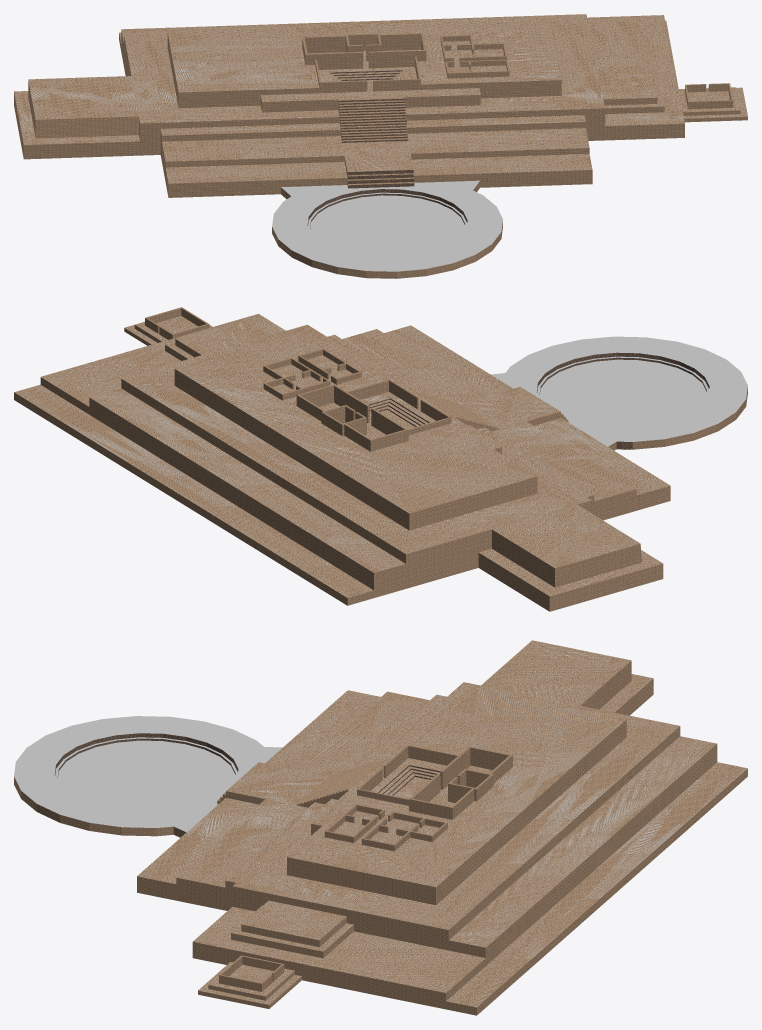
The model's file is caral_piramide.obj.
3 renders of one model, top to bottom at view 1: azimuth 30°, elevation 25°; view 2: azimuth 150°, elevation 25°; view 3: azimuth 270°, elevation 25°, orthographic. The views are drawn at different scales.
Visible parts, largest first — view 1: group_0_ID117, group_0.015_ID252, group_0.034_ID404, group_0.037_ID428, group_0.048_ID516, group_0.052_ID558, group_0.014_ID244, group_0.035_ID412, group_0.019_ID284, group_0.031_ID380, group_0.018_ID276, group_0.002_ID143 (+9 smaller); view 2: group_0_ID117, group_0.015_ID252, group_0.034_ID404, group_0.037_ID428, group_0.048_ID516, group_0.052_ID558, group_0.018_ID276, group_0.017_ID268, group_0.014_ID244, group_0.035_ID412, group_0.019_ID284, group_0.040_ID452 (+9 smaller); view 3: group_0_ID117, group_0.015_ID252, group_0.034_ID404, group_0.037_ID428, group_0.048_ID516, group_0.052_ID558, group_0.018_ID276, group_0.017_ID268, group_0.014_ID244, group_0.019_ID284, group_0.035_ID412, group_0.002_ID143 (+11 smaller).
Part boxes in pixels (x1,y1,x2,y2): group_0_ID117: (14, 30, 747, 278); group_0.015_ID252: (167, 19, 561, 92); group_0.034_ID404: (28, 20, 604, 123); group_0.037_ID428: (162, 128, 589, 171); group_0.048_ID516: (272, 180, 502, 271); group_0.052_ID558: (310, 195, 464, 256); group_0.014_ID244: (589, 20, 684, 126); group_0.035_ID412: (165, 161, 347, 183); group_0.019_ID284: (412, 154, 592, 175); group_0.031_ID380: (260, 49, 480, 101); group_0.018_ID276: (121, 14, 587, 42); group_0.002_ID143: (598, 66, 657, 99); group_0_ID117: (14, 325, 747, 611); group_0.015_ID252: (175, 332, 537, 513); group_0.034_ID404: (121, 324, 639, 568); group_0.037_ID428: (342, 329, 636, 501); group_0.048_ID516: (491, 336, 747, 446); group_0.052_ID558: (539, 359, 706, 425); group_0.018_ID276: (90, 388, 405, 572); group_0.017_ID268: (14, 384, 373, 597); group_0.014_ID244: (41, 314, 285, 406); group_0.035_ID412: (534, 418, 669, 494); group_0.019_ID284: (384, 325, 513, 396); group_0.040_ID452: (479, 548, 662, 596); group_0_ID117: (14, 661, 747, 1015); group_0.015_ID252: (287, 689, 626, 887); group_0.034_ID404: (232, 640, 679, 929); group_0.037_ID428: (177, 691, 429, 887); group_0.048_ID516: (14, 716, 282, 832); group_0.052_ID558: (57, 740, 235, 810); group_0.018_ID276: (449, 736, 716, 947); group_0.017_ID268: (446, 762, 747, 1007); group_0.014_ID244: (193, 907, 485, 992); group_0.019_ID284: (137, 798, 258, 883); group_0.035_ID412: (265, 690, 380, 769); group_0.002_ID143: (242, 900, 346, 940).
Bounding box in the file's own units: 125 × 11.19 × 111.
